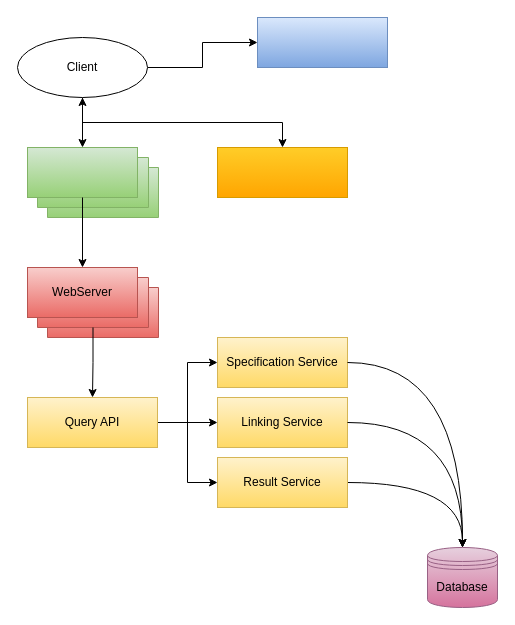
Some shapes in this 515 by 625 pixel diagram are drawn without their labels. The centre of each missing label's shape, as x and y in pixels:
Client-Side Caching: pixel 282 172
DNS: pixel 322 42
Load Balancer: pixel 82 172
